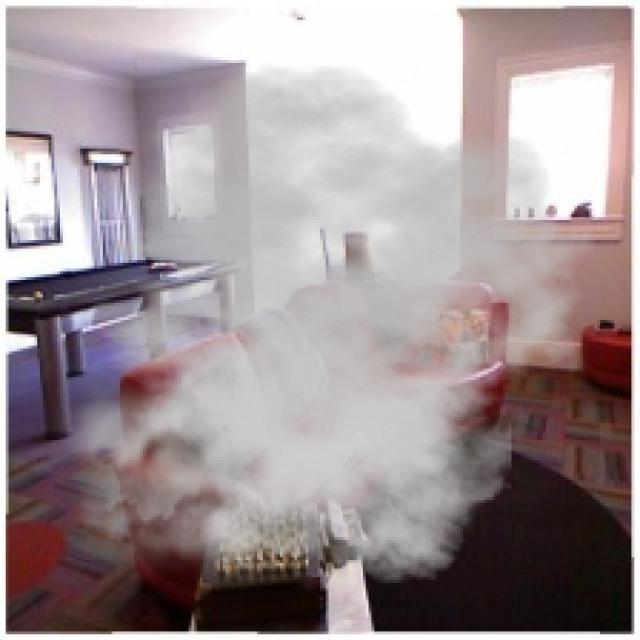Smoke: (37, 63, 597, 600)
